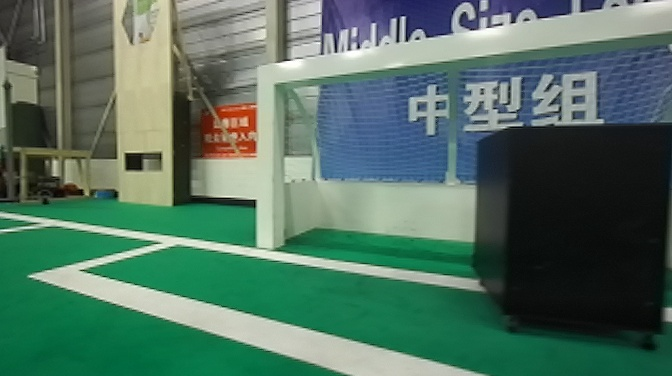goalpost: (255, 67, 286, 249)
